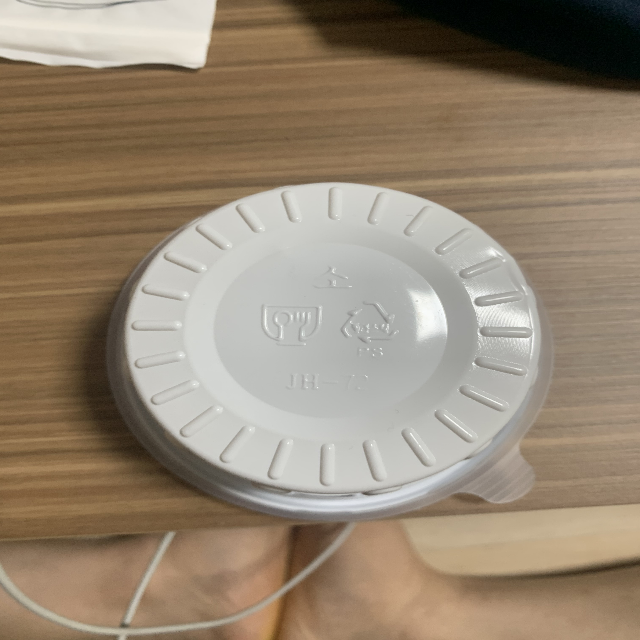ps: (336, 298, 401, 363)
